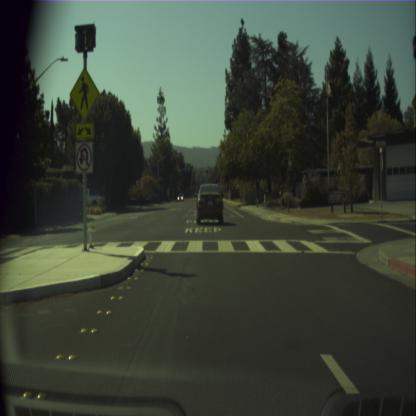Green: (206, 169, 208, 174)
